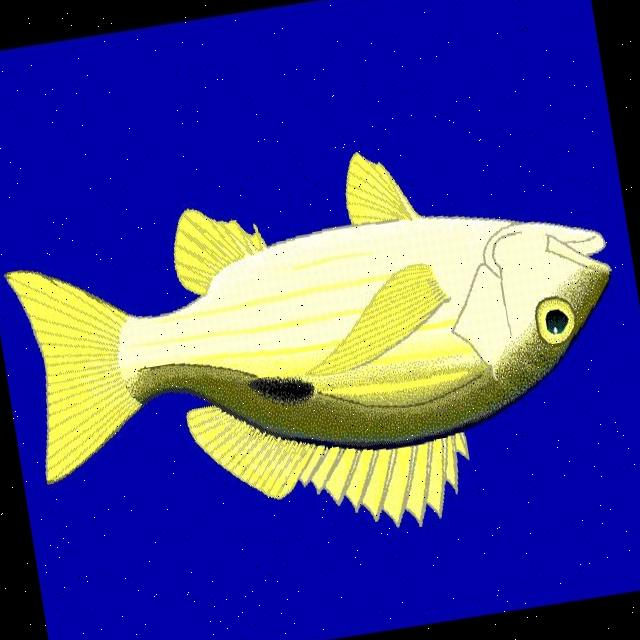ikan: (0, 117, 640, 586)
